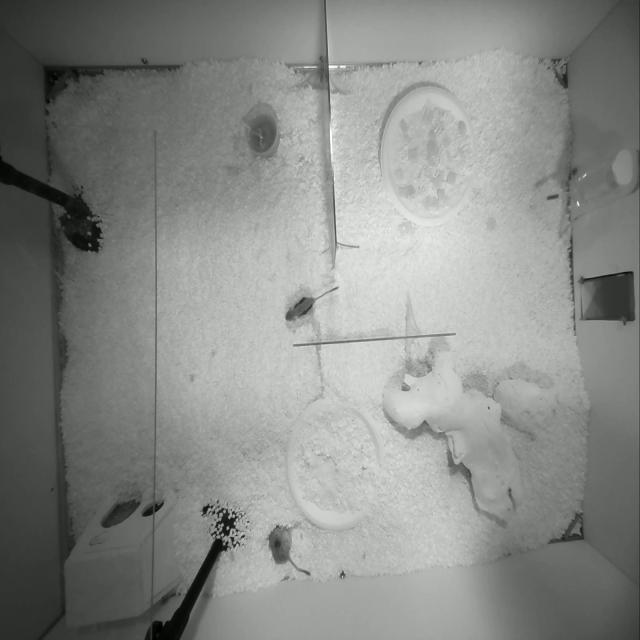pup_fluffy: (269, 526, 310, 575)
pup_v_stripe: (285, 287, 339, 321)
